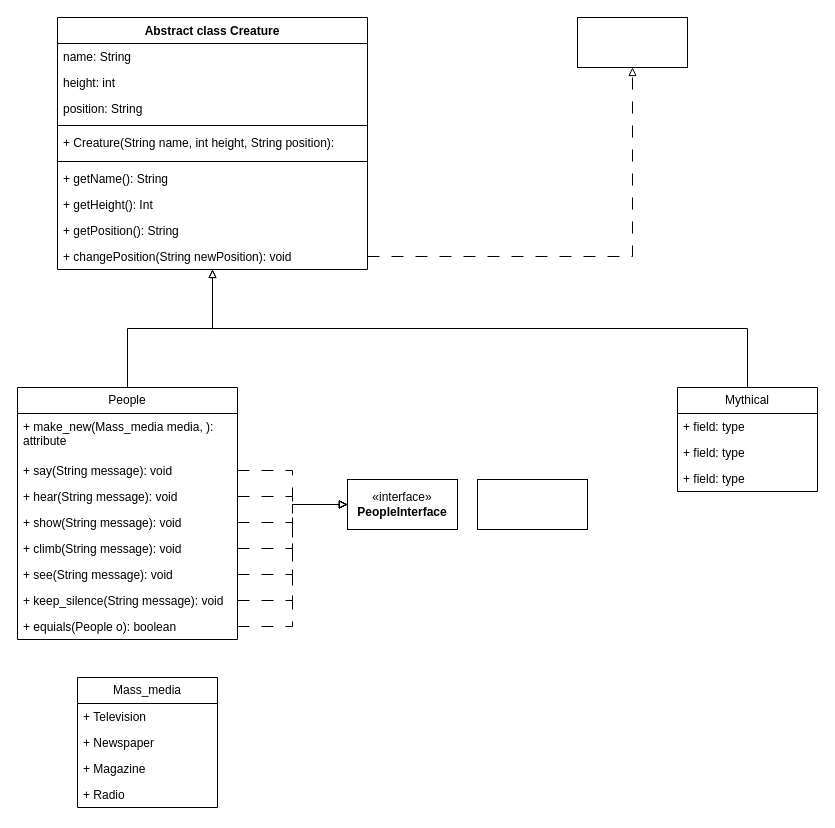
This 835x828 diagram has some shape labels left out. The shapes that lost their labels are listed below. From the top down, each one's centre as x and y in pixels, then its label:
point (632, 42): «interface» CreatureInterface
point (532, 504): «interface» Mythical Interface
